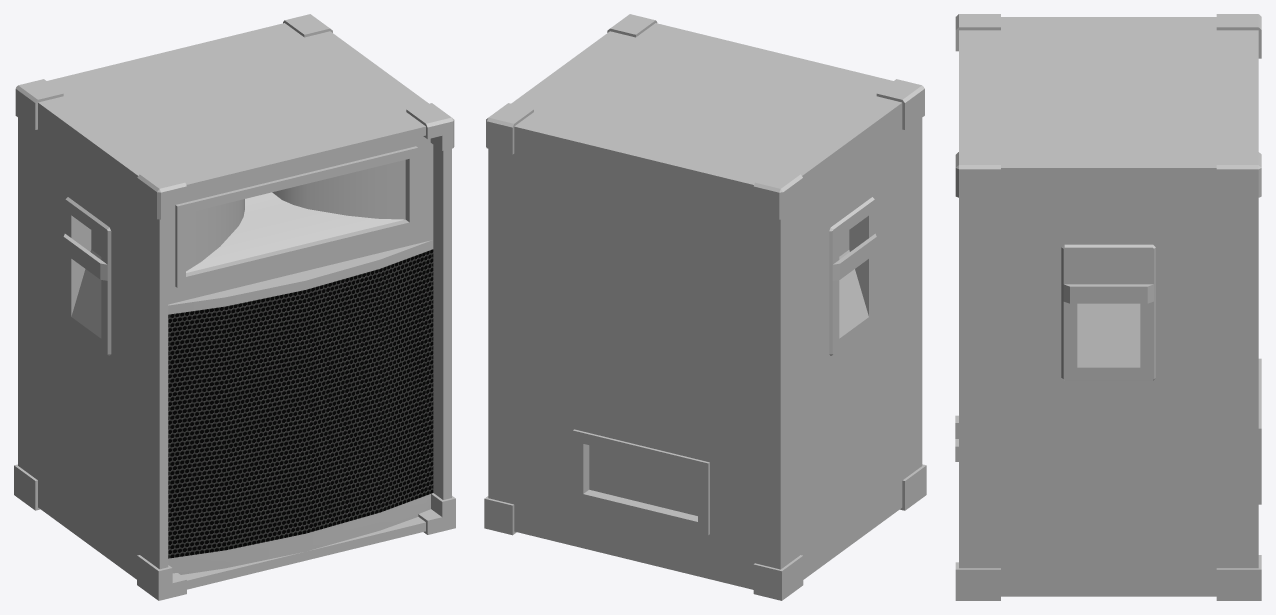
The model's file is Speaker_A.fbx.
The picture shows the model from 3 angles, left to right: view 1: azimuth 30°, elevation 25°; view 2: azimuth 150°, elevation 25°; view 3: azimuth 270°, elevation 25°; orthographic projection. The views are drawn at different scales.
Visible parts, largest first — view 1: Speaker, Speaker_Grill; view 2: Speaker; view 3: Speaker.
Part boxes in pixels (bbox=[...]): Speaker: bbox=[14, 14, 455, 600]; Speaker_Grill: bbox=[168, 249, 433, 558]; Speaker: bbox=[484, 14, 926, 600]; Speaker: bbox=[955, 14, 1261, 600].
Bounding box in the file's own units: 1.78 × 2.28 × 1.46.
